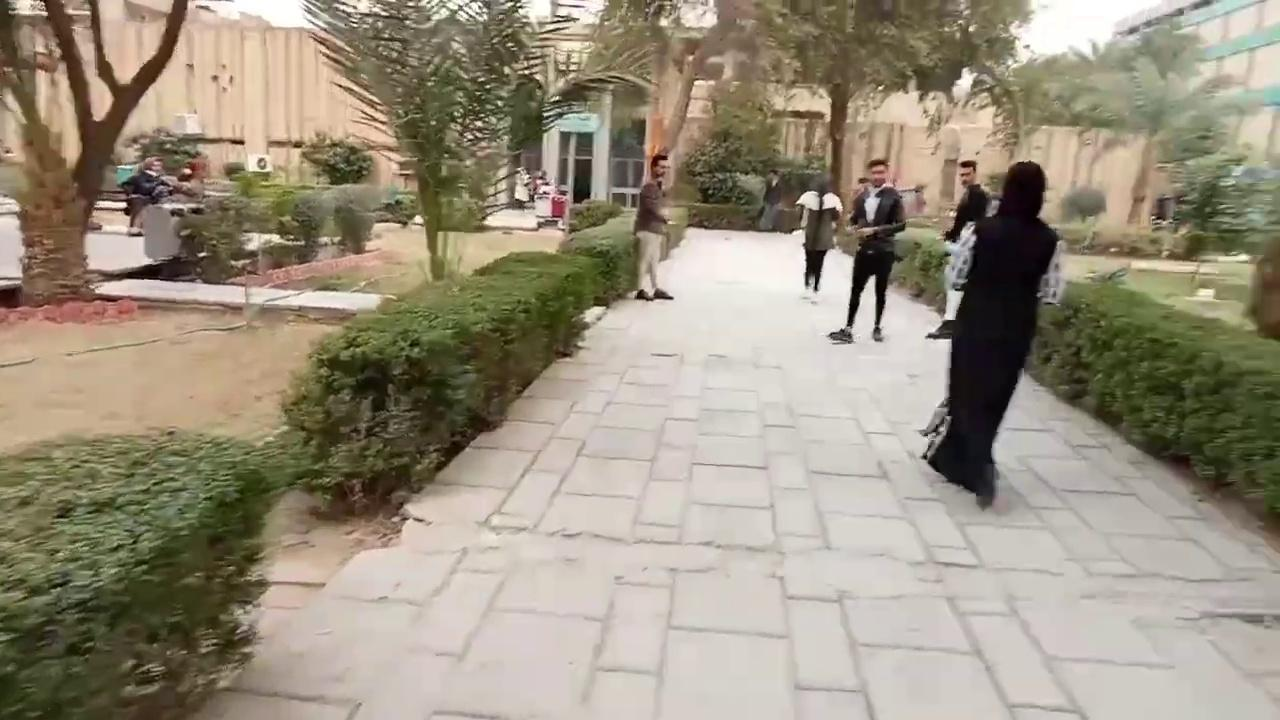car: (114, 162, 142, 186)
person: (930, 160, 1060, 509), (828, 157, 906, 343), (927, 159, 989, 338), (120, 155, 203, 237), (793, 173, 843, 302), (632, 152, 675, 300), (943, 159, 989, 244), (760, 168, 781, 231)
tree: (0, 414, 283, 720), (299, 0, 580, 282), (281, 242, 598, 481), (0, 0, 194, 307), (1015, 11, 1257, 246), (575, 0, 773, 206), (759, 0, 938, 207), (900, 0, 1034, 214), (1093, 11, 1207, 235), (966, 46, 1097, 166), (332, 201, 377, 253)
